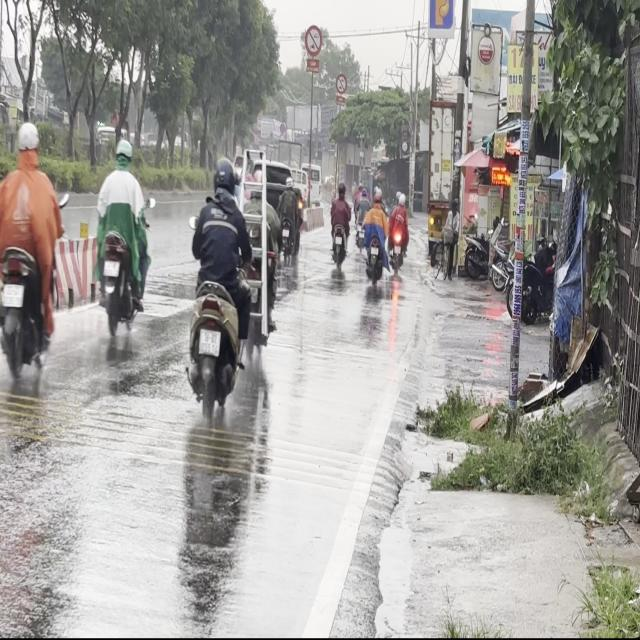helmet: (15, 120, 40, 166), (212, 155, 234, 195), (114, 138, 132, 167)
licenseplate: (184, 152, 252, 420), (0, 119, 61, 389), (94, 136, 150, 342)
nohelmet: (198, 328, 220, 354), (1, 282, 22, 306), (103, 260, 119, 276)
